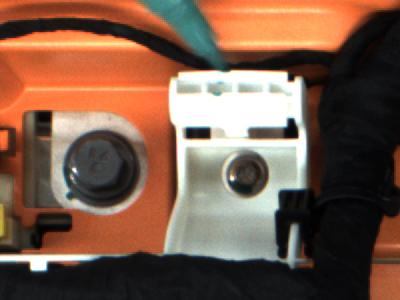nut_b: (52, 117, 157, 217)
